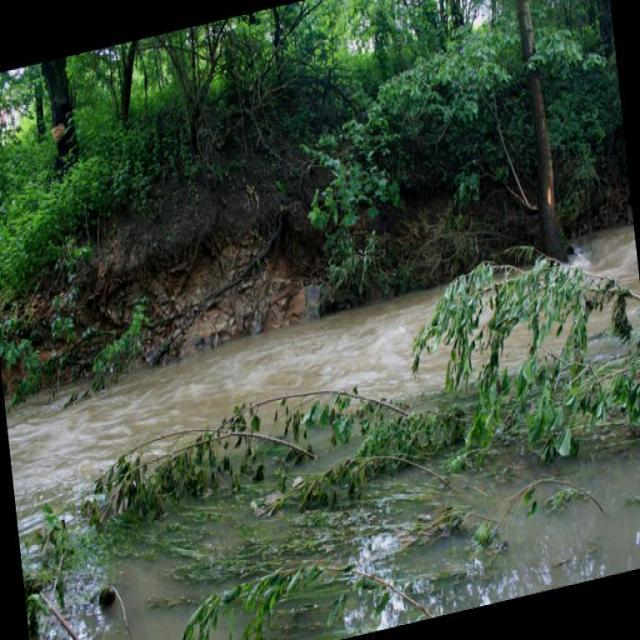flood: (2, 226, 639, 509)
